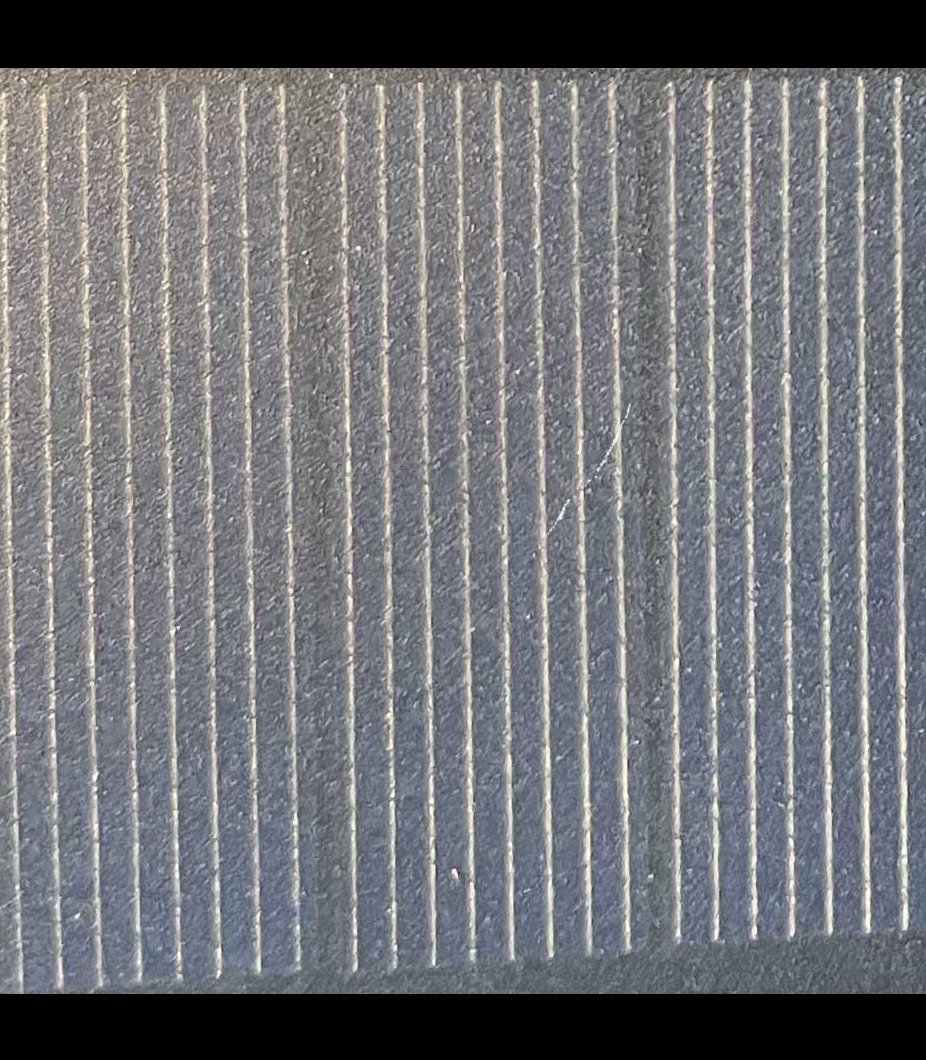Crack: (524, 392, 634, 561)
